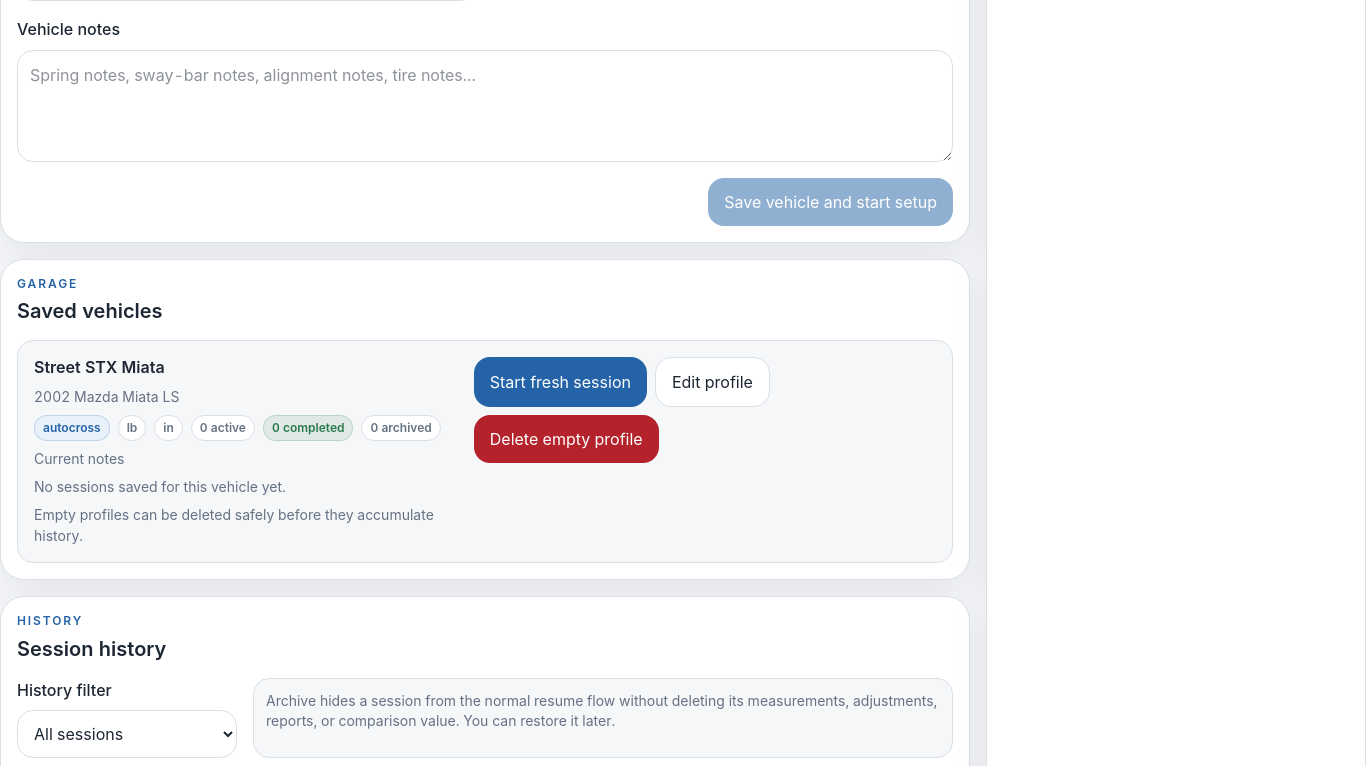
Scenario: GarageScreen › opens inline vehicle editing with the saved profile values
(page scrolled)
Click the button "Edit profile" at (712, 382), box [655, 357, 770, 407]
(page scrolled)
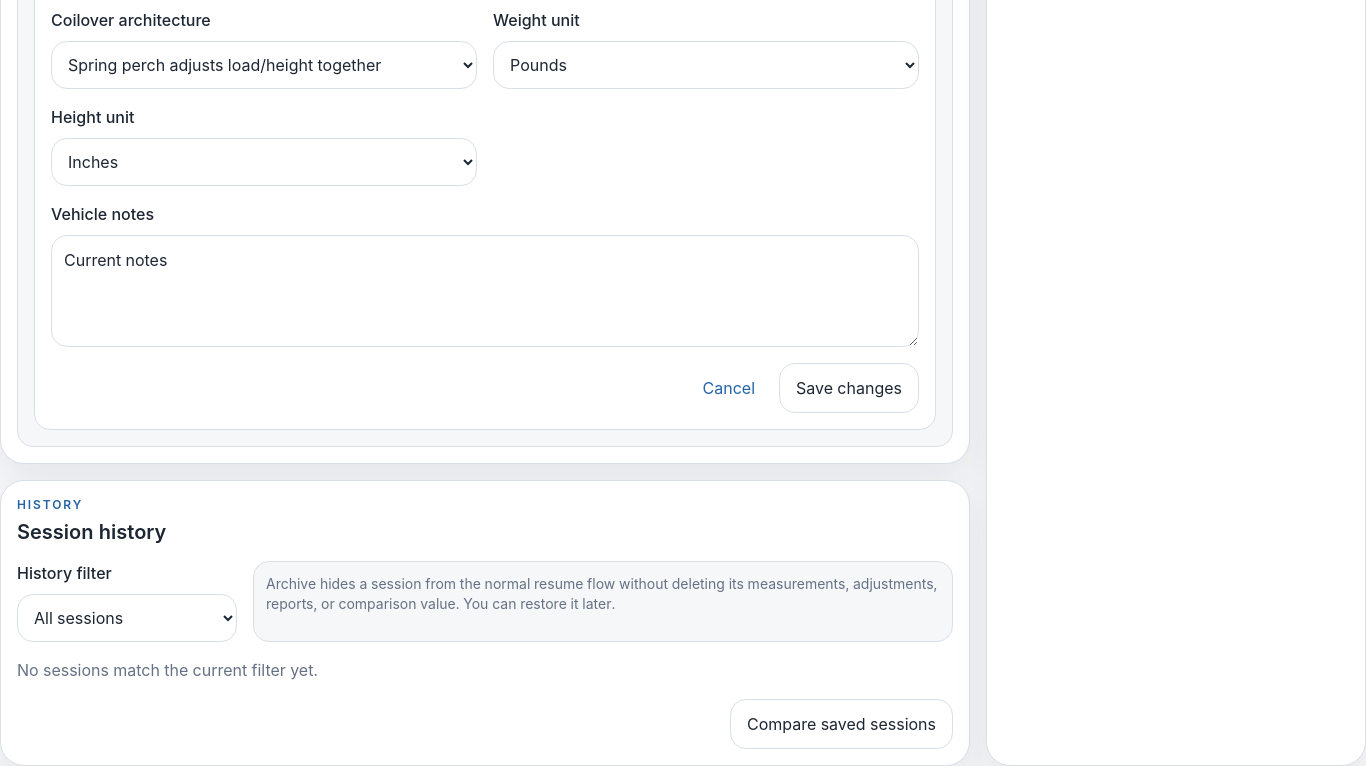
Now the text box showing "Current notes" is shown, box [51, 234, 919, 346]
Now the button "Save changes" is enabled, box [779, 362, 919, 412]
